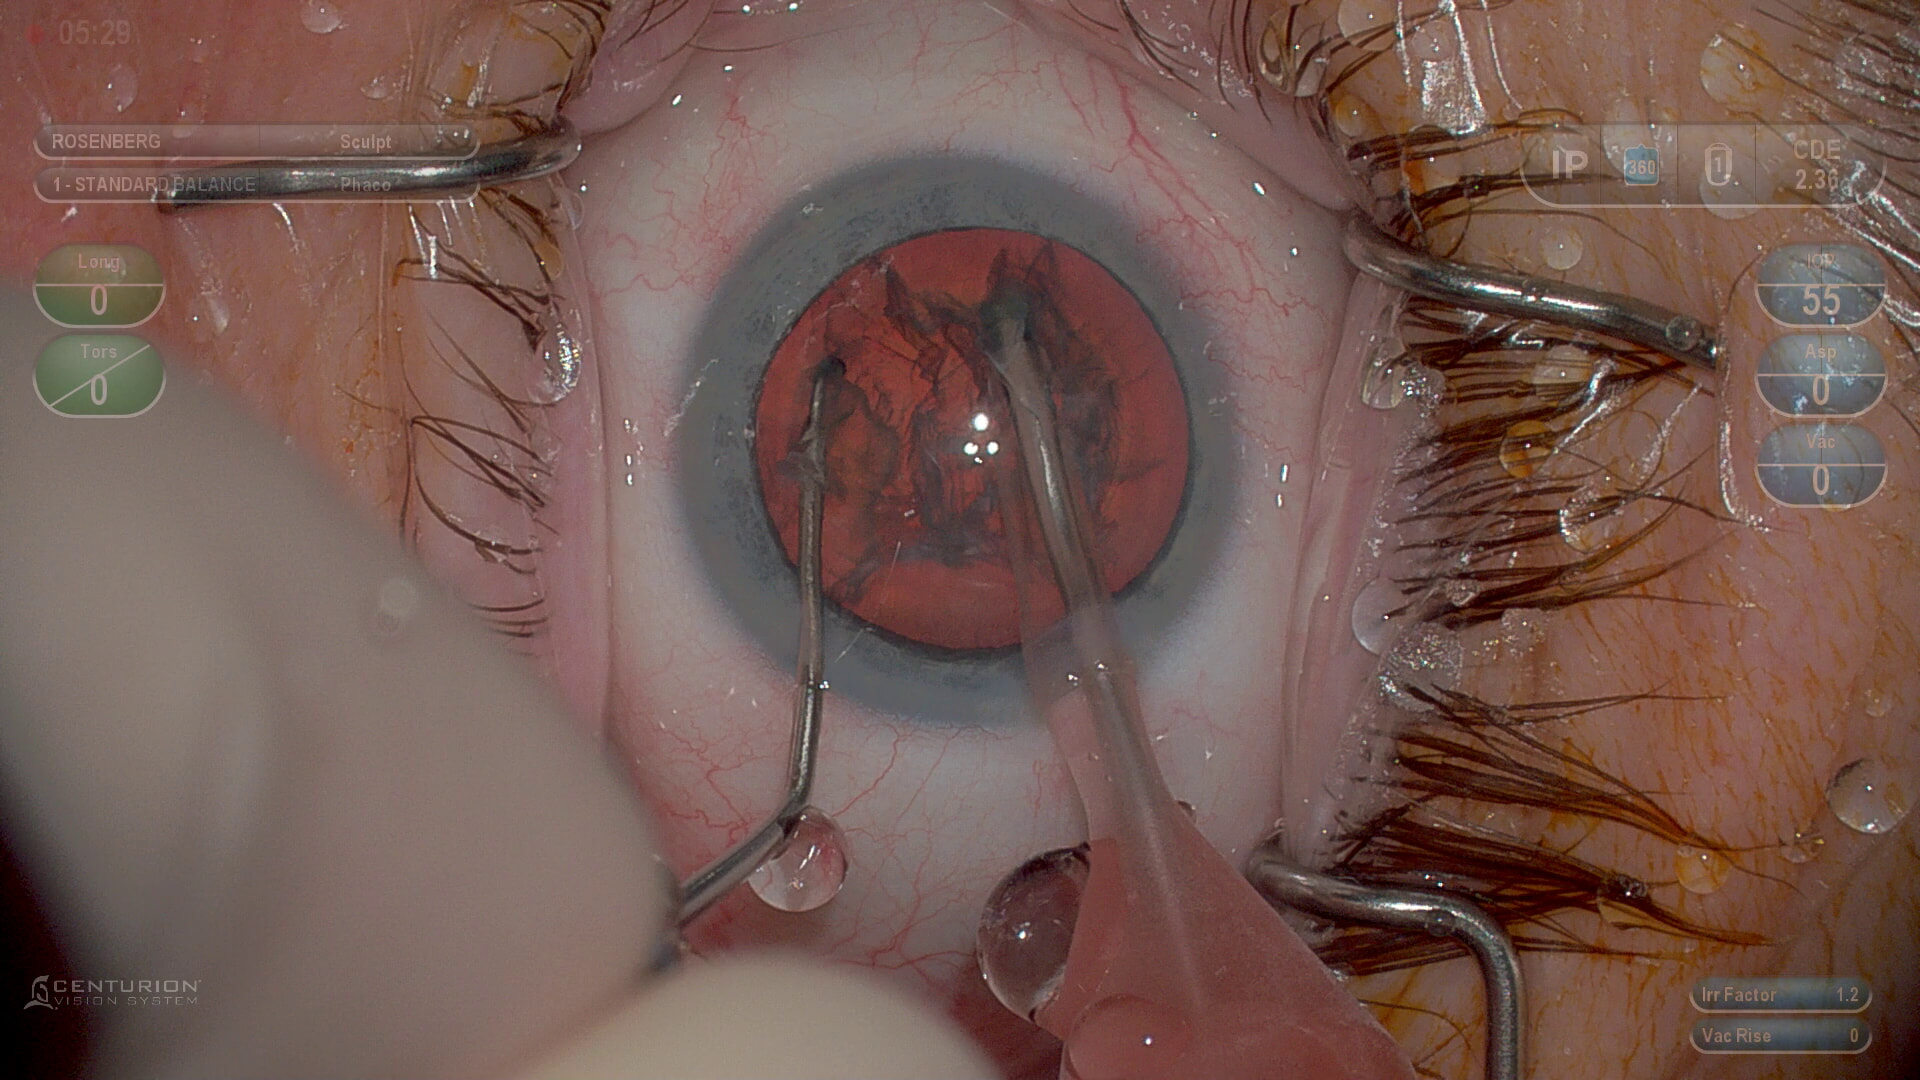iris: (672, 156, 1242, 729)
pupil: (749, 222, 1206, 667)
